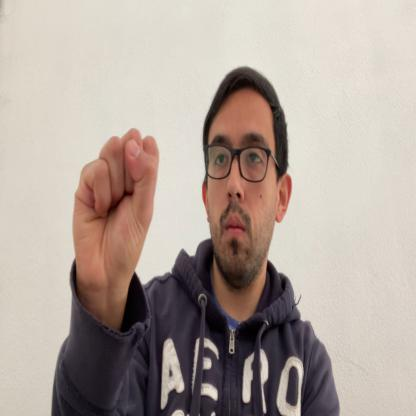S: (73, 130, 160, 296)
